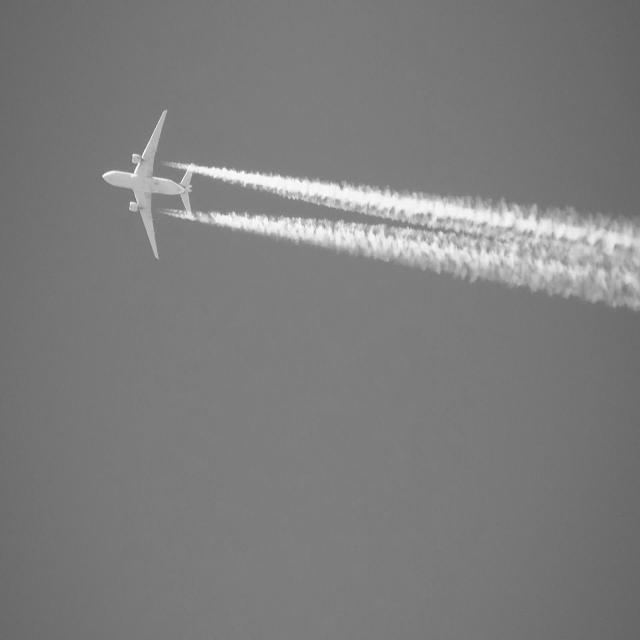aeroplane: (98, 108, 205, 272)
